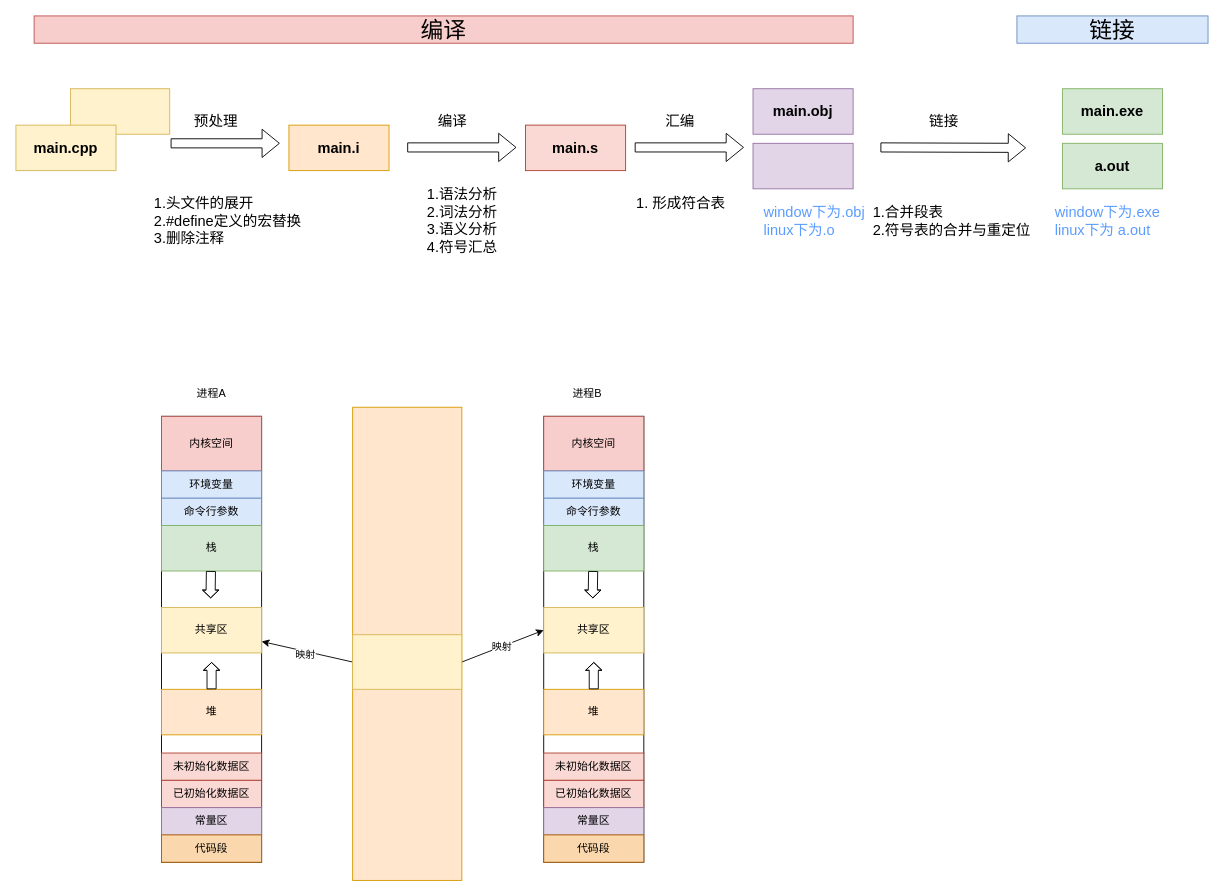
The diagram is 1224 pixels wide and 896 high, and some of its shapes have lost their labels. Here are the shapes that lost their labels. From the top down, the centre of each, then its label:
the point at 120,111: main.h
the point at 802,165: main.o
the point at 407,661: 动态库
